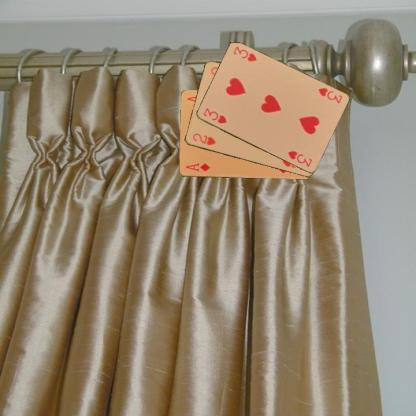2h: (190, 130, 217, 146)
3h: (200, 105, 228, 125), (315, 85, 343, 105)
Ad: (183, 160, 211, 173)
